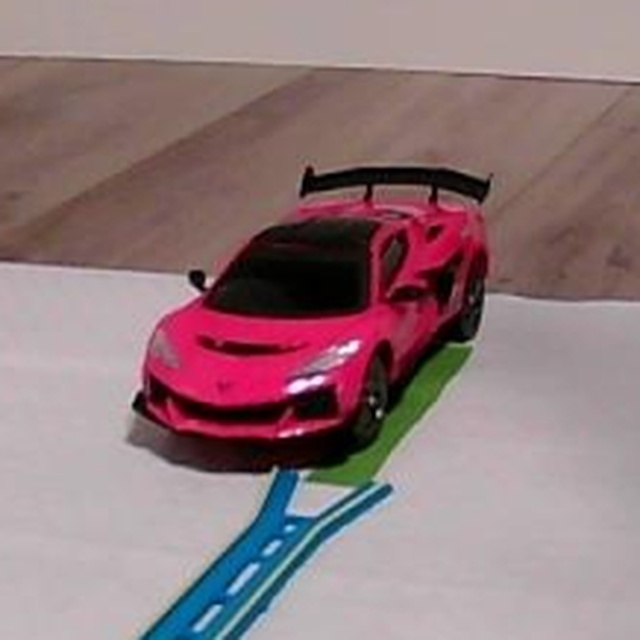tire_front_driver: (345, 355, 390, 450)
tire_rear_driver: (445, 290, 485, 345)
